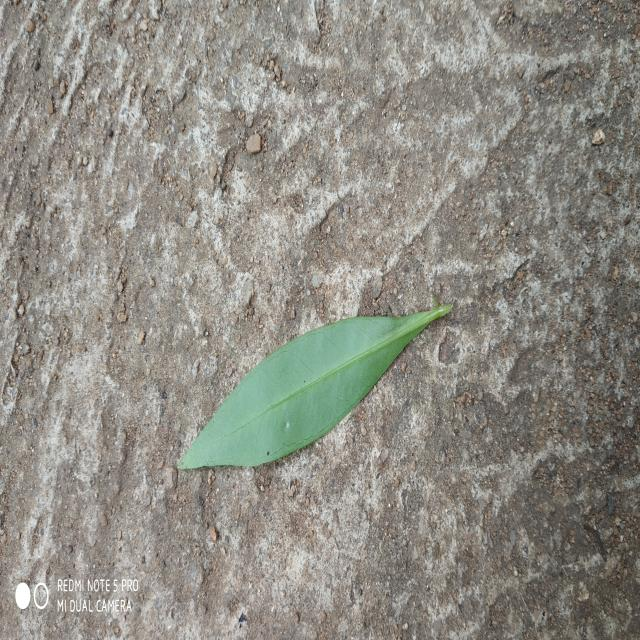nerale: (179, 302, 452, 469)
